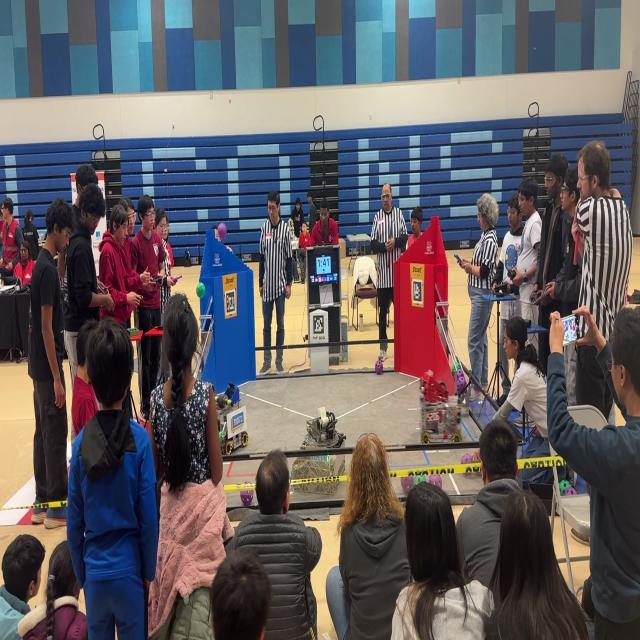artifact_green: (240, 482, 254, 506), (559, 480, 570, 494), (452, 362, 461, 376), (461, 453, 472, 464), (219, 431, 224, 443)
artifact_purple: (400, 476, 414, 494), (456, 370, 466, 395), (241, 489, 253, 506), (429, 475, 442, 488), (196, 282, 205, 299), (559, 480, 570, 493), (218, 223, 226, 240), (563, 486, 577, 495), (375, 360, 383, 374), (461, 454, 472, 464), (461, 454, 472, 463), (415, 475, 426, 484)
